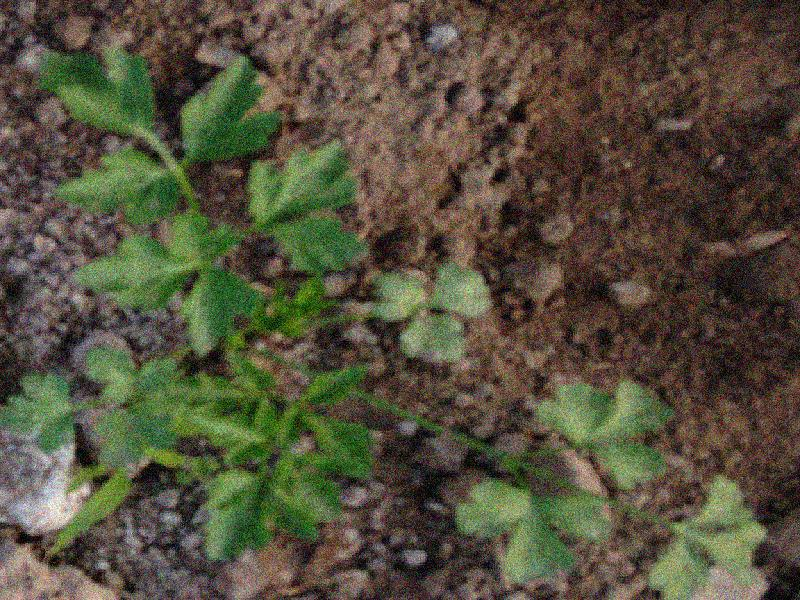radish: (32, 52, 715, 583)
